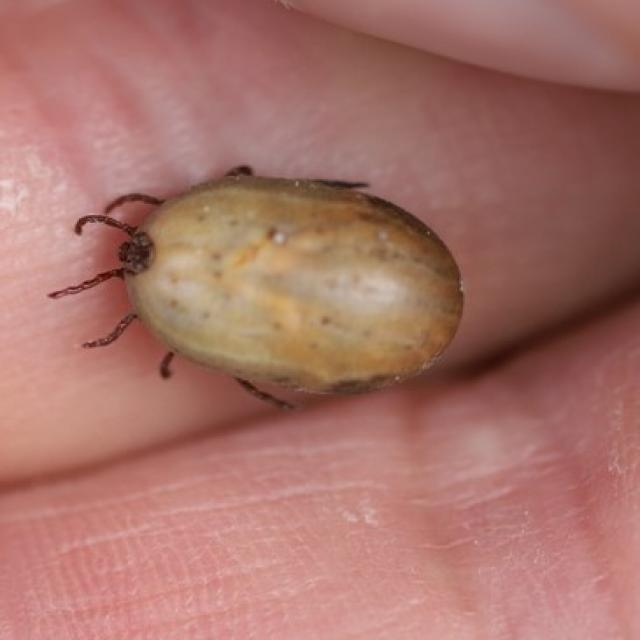Dermacentor Reticulatus-F-Fed: (49, 167, 465, 411)
